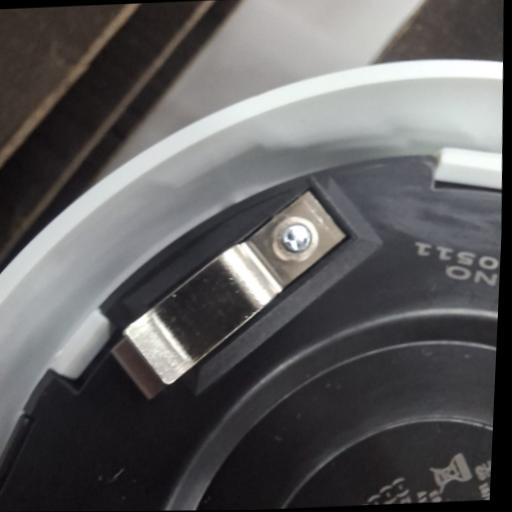yayli: (108, 186, 358, 400)
